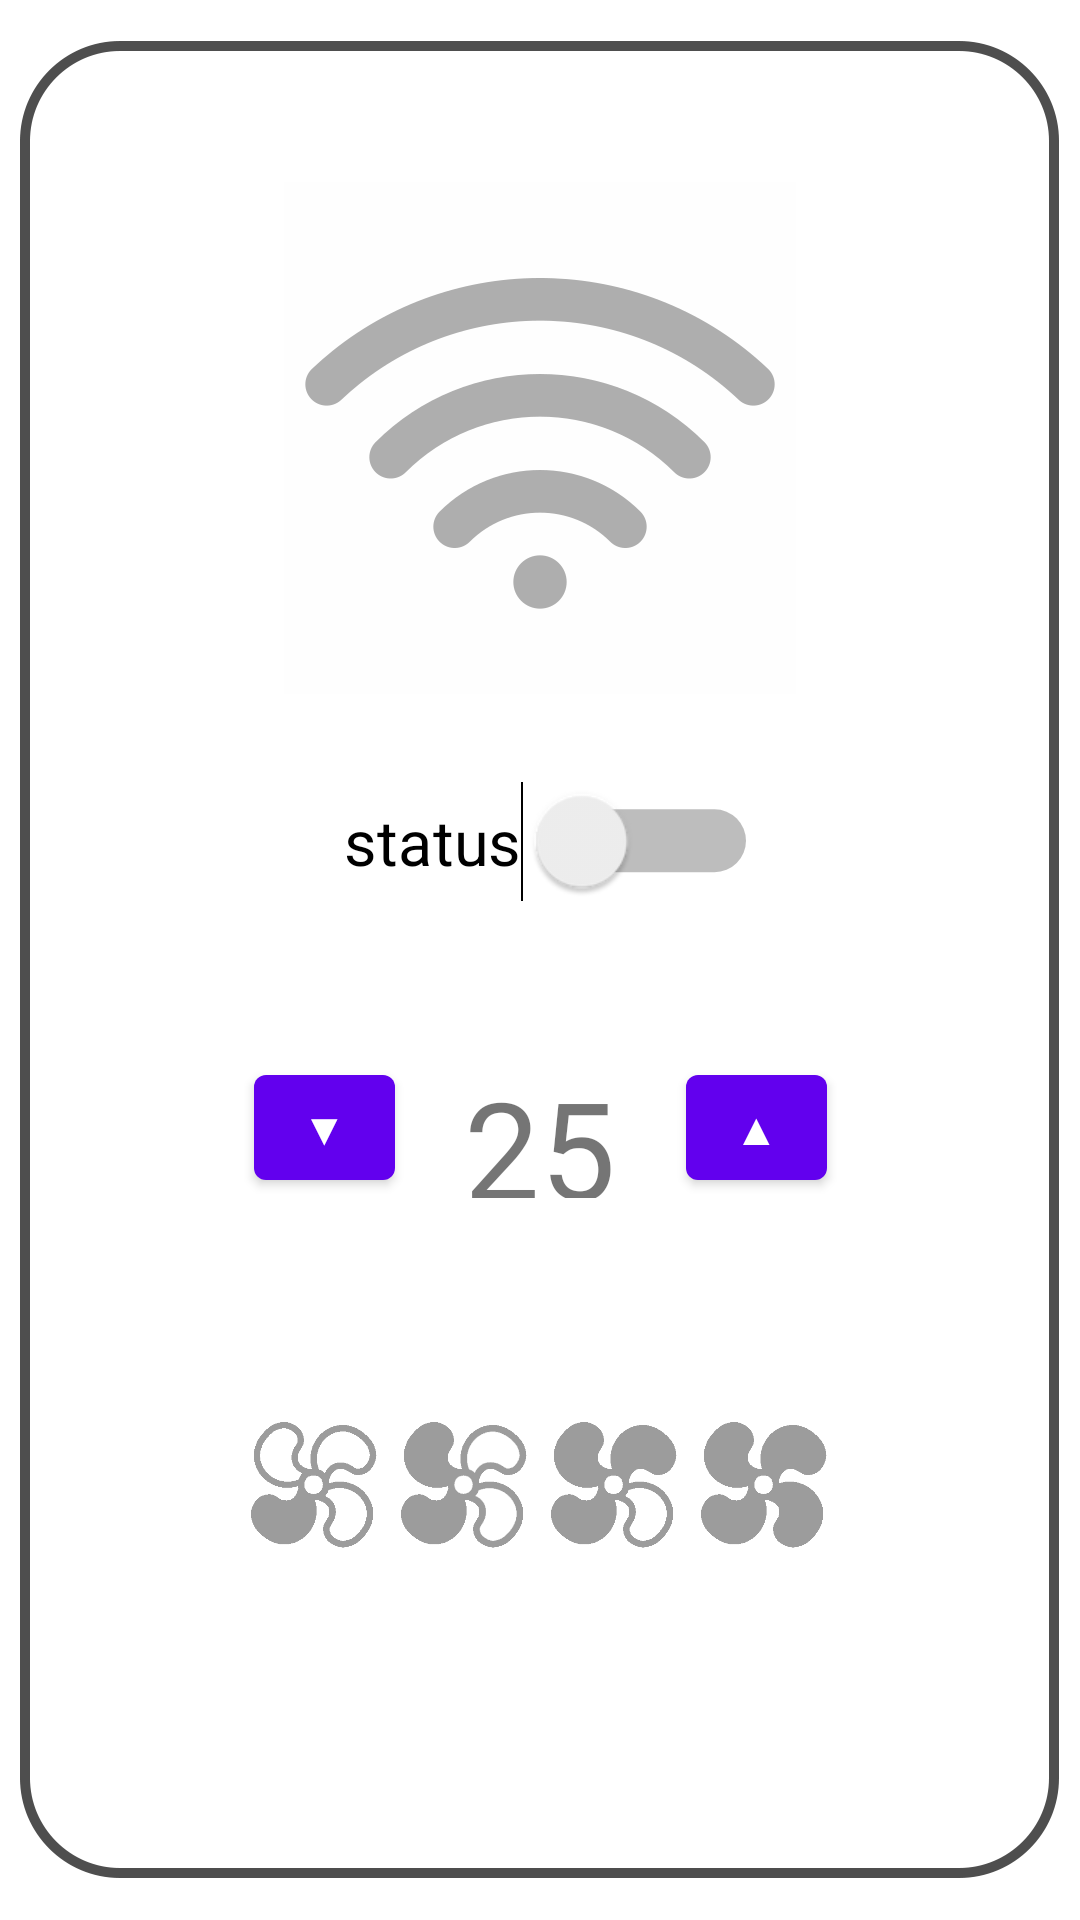

Point at icon controls on the screen. Image size 1080px x 1920px, points as [x,y].
fan level: [314,1485], [464,1485], [614,1485], [764,1485]
